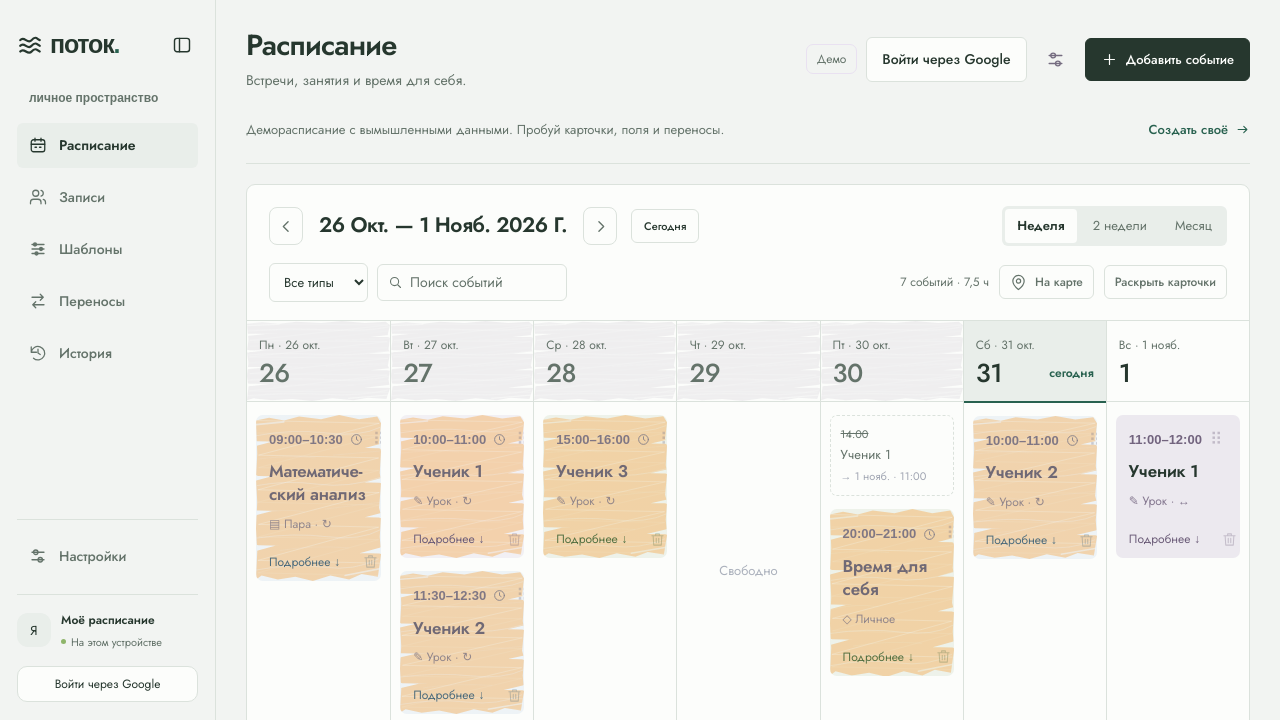
Test: separate public and personal entry points › never connects demo to a signed-in user’s cloud workspace
This screenshot has width=1280, height=720.
Click the button "Записи".
click(108, 197)  # box [17,174,198,220]
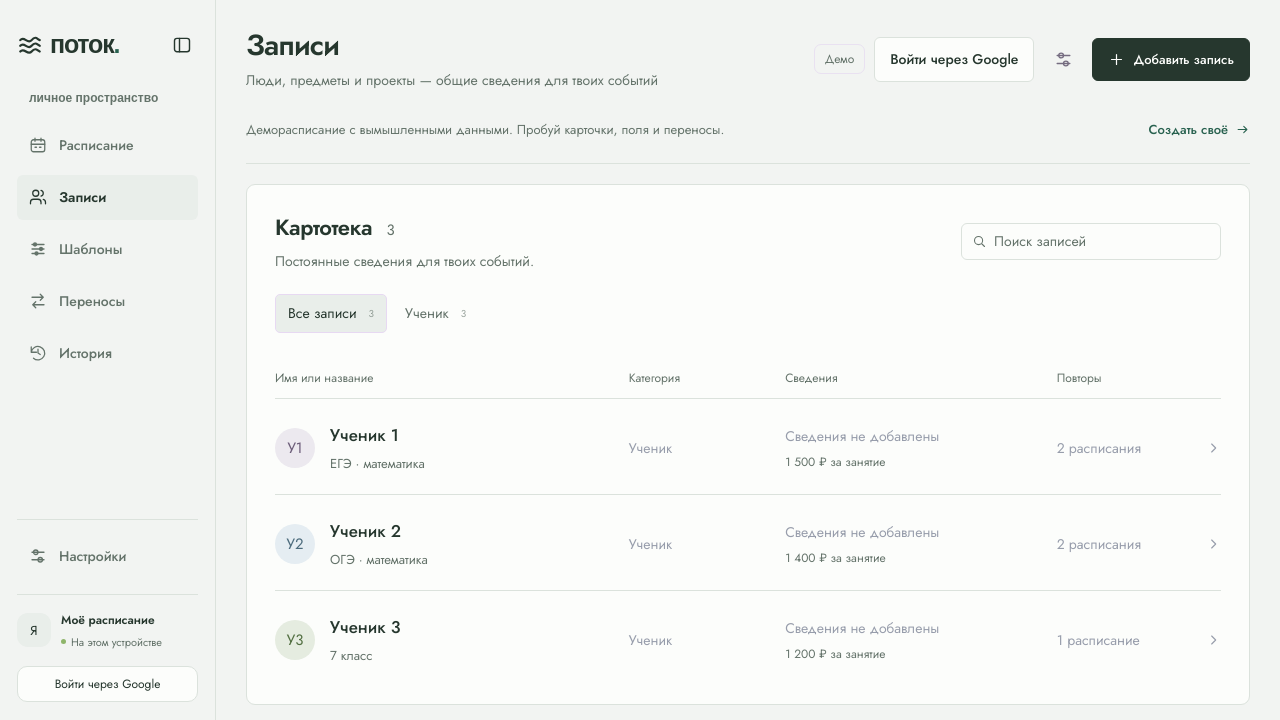
Expected: the text "Добавить запись" is shown, [1092,38,1250,81]
